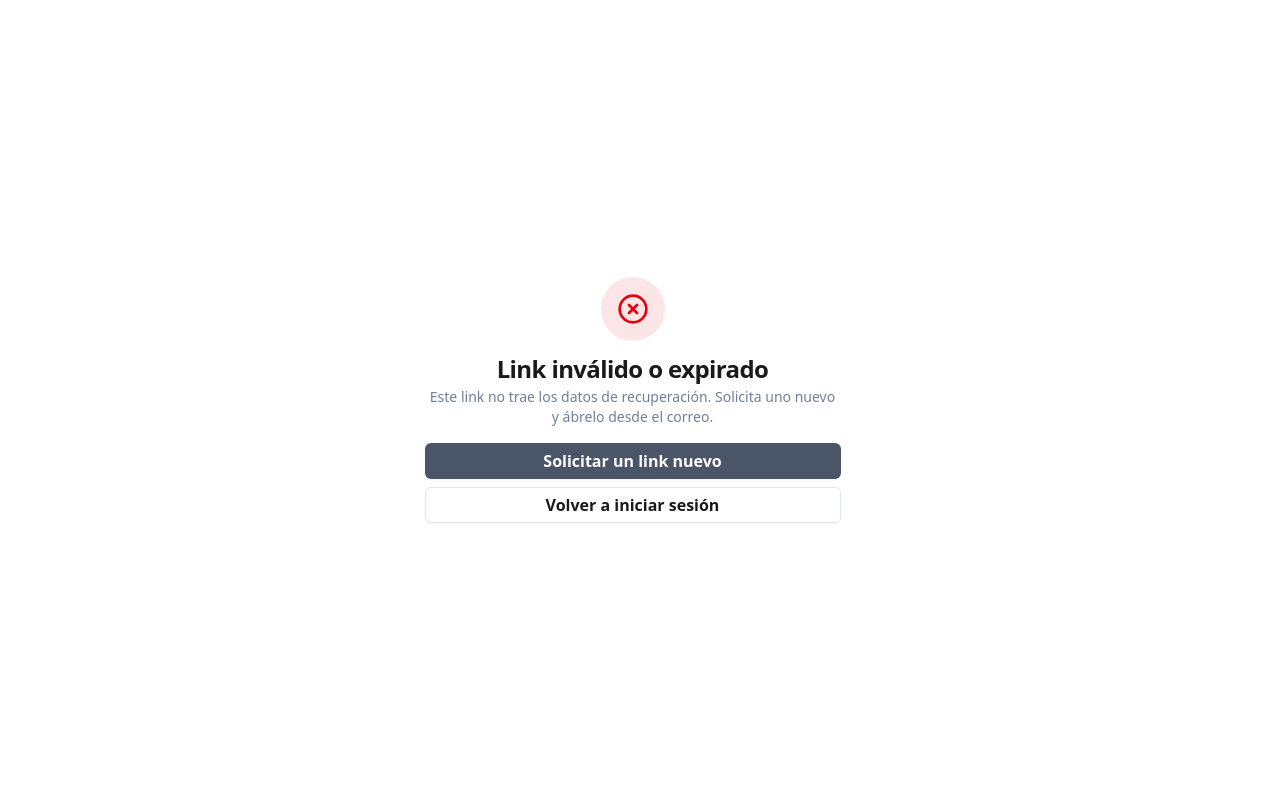
Test: reset password link flow › opens the recovery dialog in place instead of dead-ending on the rejection
What coordinates should you click on to do the following:
click the button "Solicitar un link nuevo"
I would click on:
 (632, 461)
Its box is [424,443,840,479].
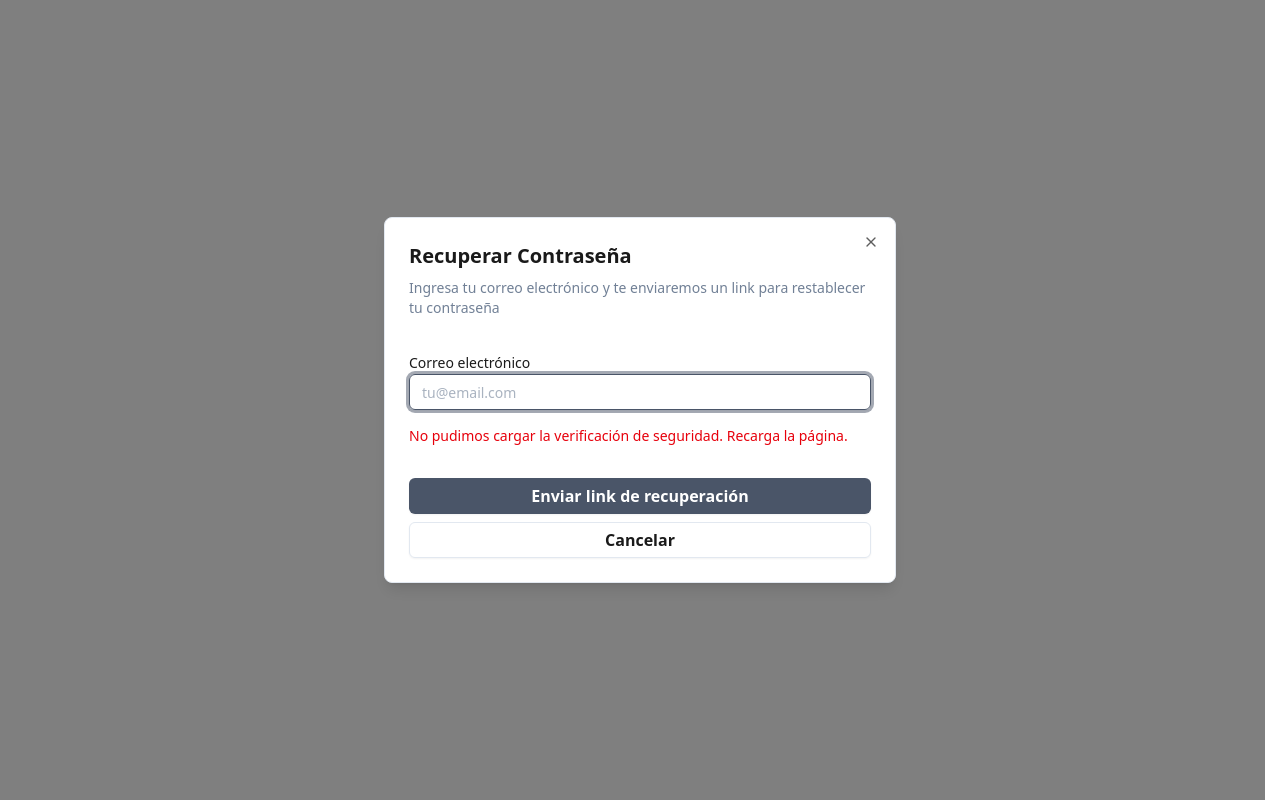
Result: the heading "Recuperar Contraseña" is shown at [409,242,632,269]
